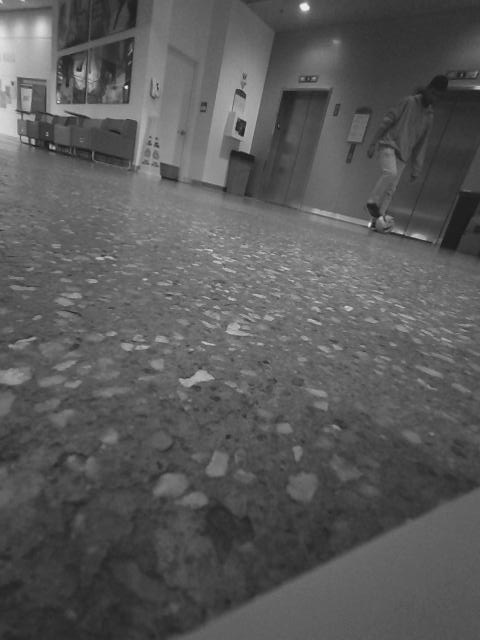ball: (373, 212, 399, 235)
